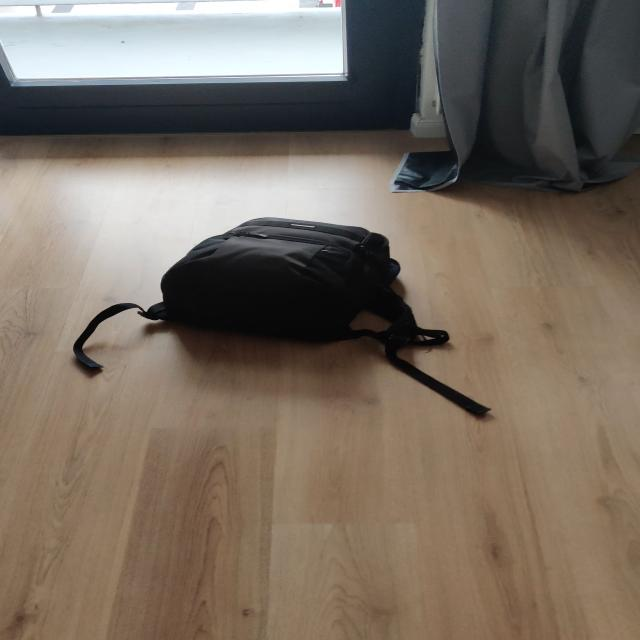backpack: (148, 211, 422, 349)
